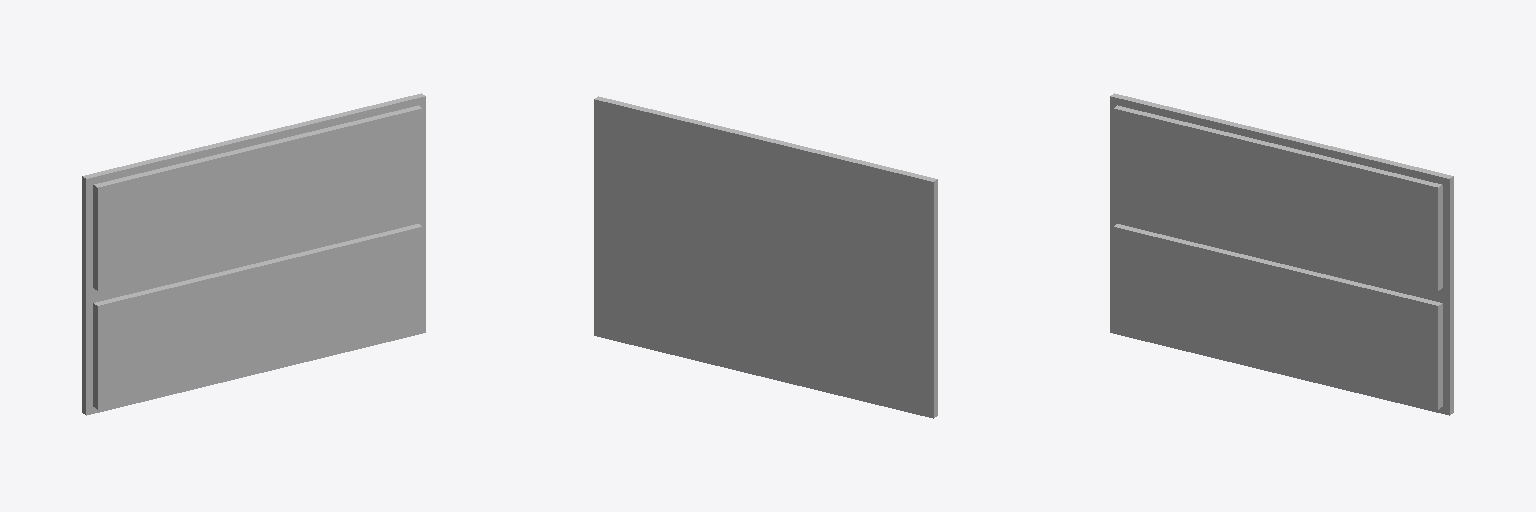
The model's file is Wall.obj.
3 views of the same model, side by side, from view 1: azimuth 30°, elevation 25°; view 2: azimuth 150°, elevation 25°; view 3: azimuth 330°, elevation 25° (orthographic).
Parts seen in each view (by area): view 1: object 1; view 2: object 1; view 3: object 1.
Boxes of the visible parts, x1,y1,x2,y2 form: object 1: [82, 93, 425, 415]; object 1: [594, 96, 937, 418]; object 1: [1110, 93, 1453, 415].
Bounding box in the file's own units: 4.8 × 3.2 × 0.2.